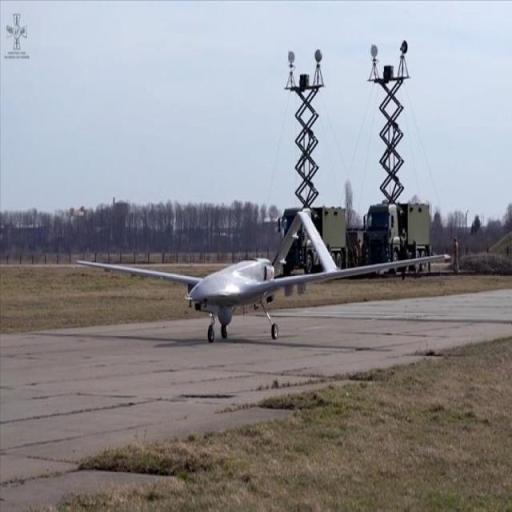uav: (71, 206, 456, 338)
